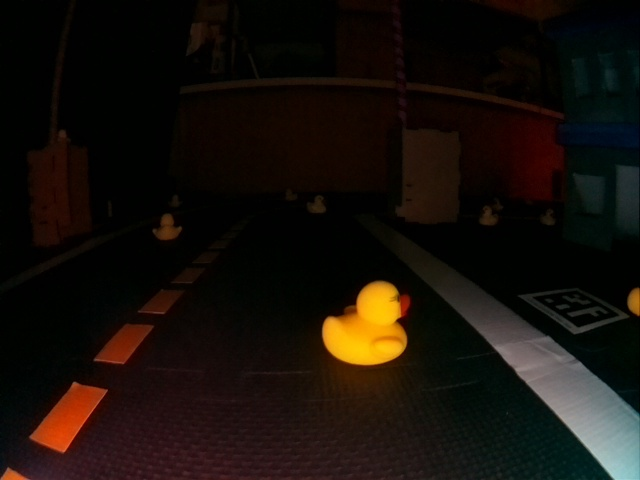Duckie: (323, 283, 409, 364), (152, 214, 182, 241), (307, 195, 327, 213), (479, 207, 496, 223), (540, 209, 556, 225), (284, 189, 296, 201), (169, 195, 180, 204)
QR code: (524, 288, 626, 329)
